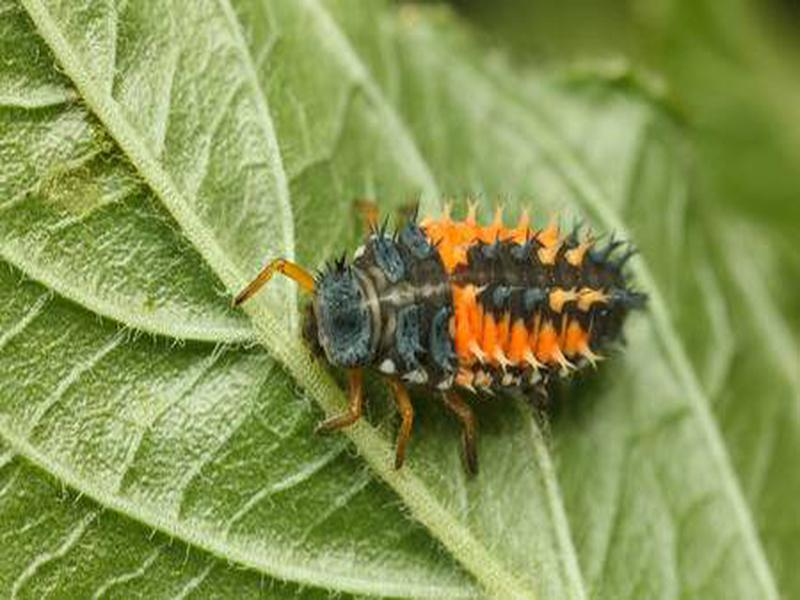Spiny_beetle: (298, 185, 653, 427)
